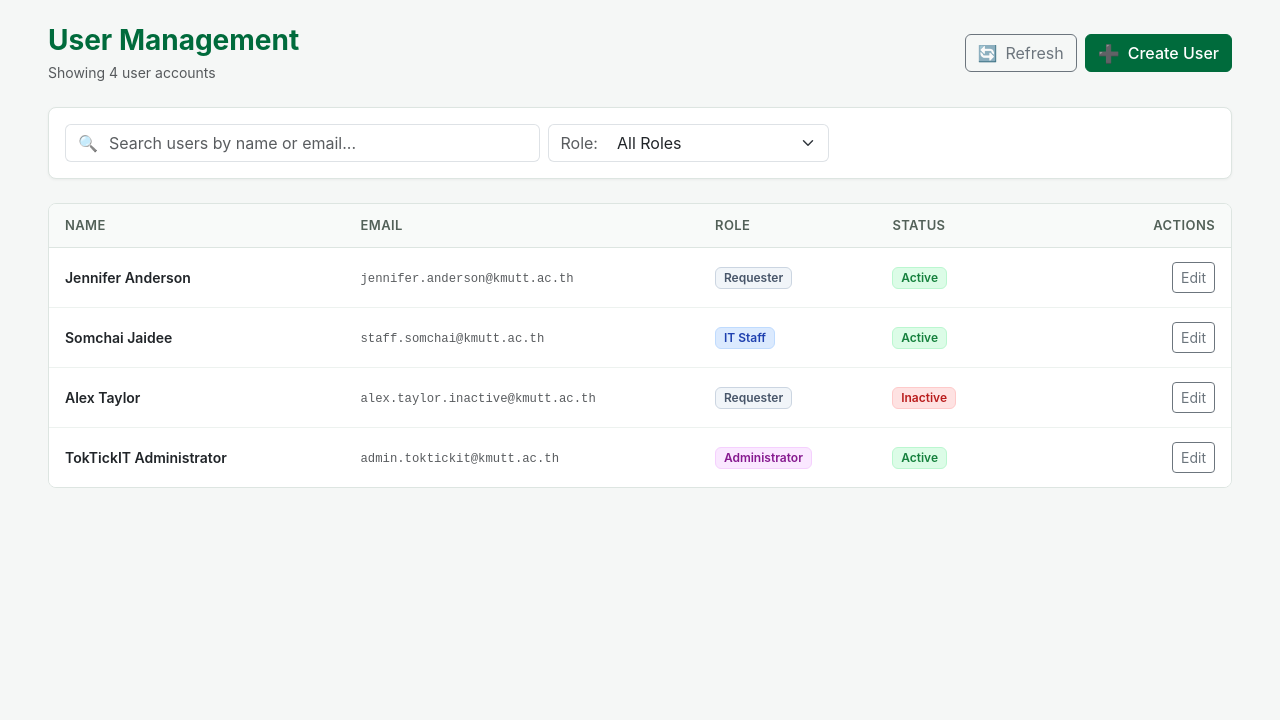
Scenario: Administrator User Management Component (UI-09, UI-10) › UI-10: Safety alerts, deactivation confirmation, and context sync › disables Deactivate button with warning when editing self account
Expected: the text "TokTickIT Administrator" is shown, x1=65 y1=449 x2=227 y2=466
Open Edit modal for self (user id 9)
Step 1. Click the button with test id "edit-user-btn-9" → (1194, 458), box x1=1172 y1=442 x2=1215 y2=473
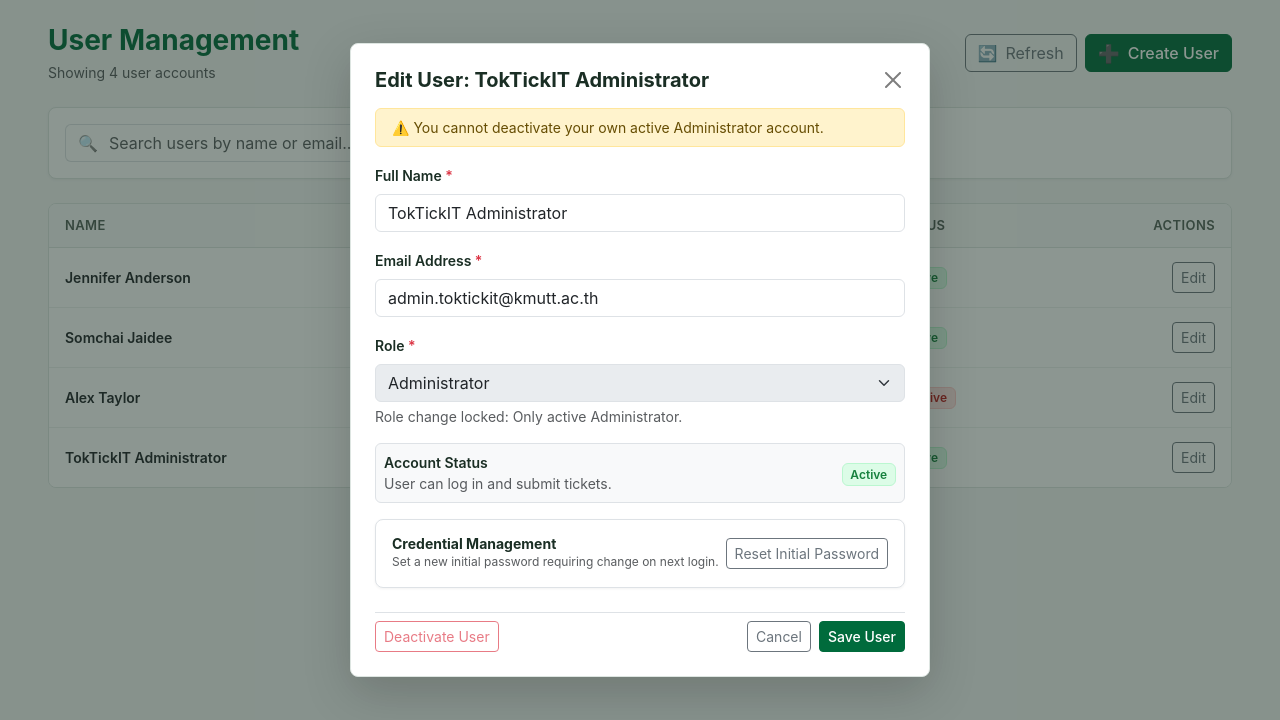
Expected: the dialog with test id "edit-user-modal" is shown
Expected: the message with test id "safety-alert" shows "You cannot deactivate your own active Administrator account.", x1=392 y1=119 x2=824 y2=136
Expected: the button with test id "toggle-status-btn" is disabled, x1=375 y1=621 x2=499 y2=652
